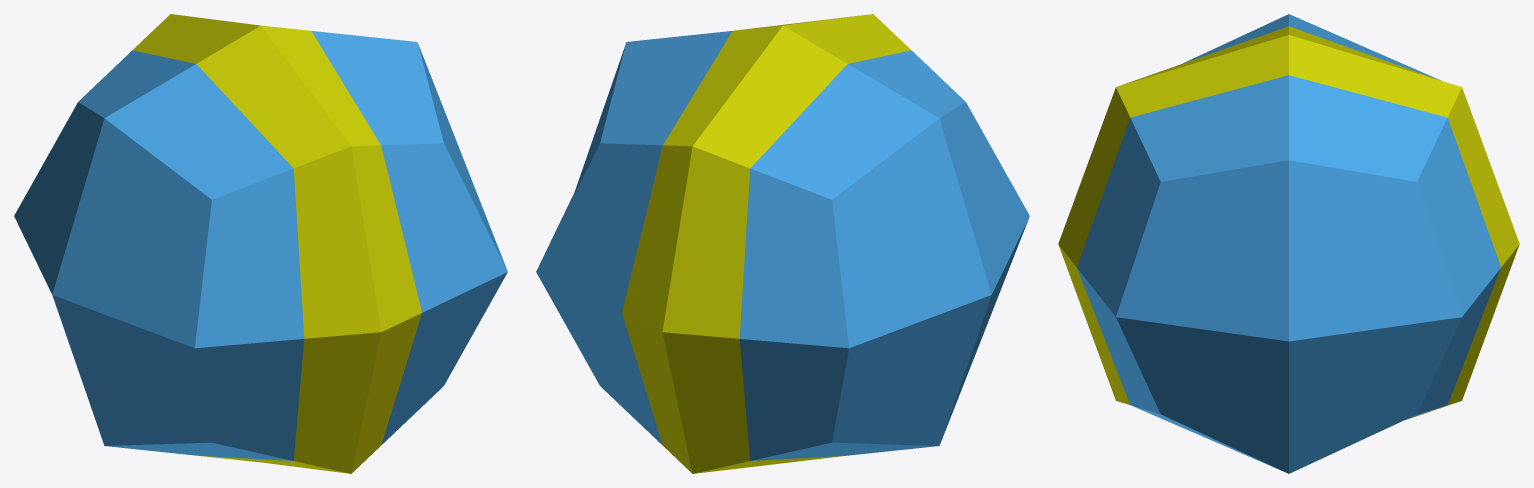
The model's file is Transmitter_On.fbx.
The picture shows the model from 3 angles, left to right: view 1: azimuth 30°, elevation 25°; view 2: azimuth 150°, elevation 25°; view 3: azimuth 270°, elevation 25°; orthographic projection. The views are drawn at different scales.
Visible parts, largest first — view 1: Transmitter_On; view 2: Transmitter_On; view 3: Transmitter_On.
Part boxes in pixels (x1,y1,x2,y2): Transmitter_On: (14, 14, 507, 473); Transmitter_On: (536, 14, 1029, 473); Transmitter_On: (1058, 14, 1519, 473).
Size of the model in its own units: 0.9192 by 0.9192 by 0.9192.
